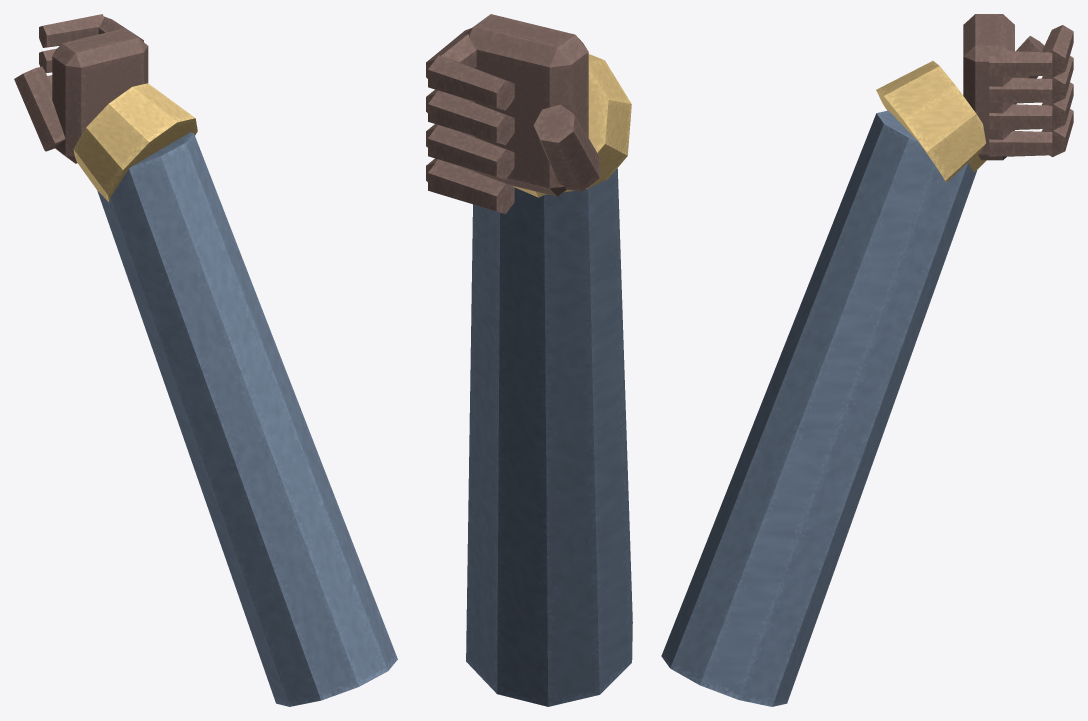
Rendered from fp_staff_arm.glb.
The picture shows the model from 3 angles, left to right: view 1: azimuth 30°, elevation 25°; view 2: azimuth 150°, elevation 25°; view 3: azimuth 270°, elevation 25°; orthographic projection. The views are drawn at different scales.
Visible parts, largest first — view 1: RightSleeve, RightPalm, RightCuff, RightThumb, RightFingerTip.003; view 2: RightSleeve, RightPalm, RightCuff, RightThumb, RightFingerTip.003, RightFingerTip.002, RightFingerTip, RightFingerTip.001, RightFinger.003; view 3: RightSleeve, RightCuff, RightPalm, RightFinger.003, RightFinger, RightFinger.002, RightFinger.001, RightFingerTip.003.
Boxes of the visible parts, x1=… form: RightSleeve: x1=97, y1=132, x2=397, y2=706; RightPalm: x1=52, y1=28, x2=148, y2=163; RightCuff: x1=73, y1=83, x2=197, y2=202; RightThumb: x1=14, y1=66, x2=65, y2=151; RightFingerTip.003: x1=39, y1=14, x2=103, y2=47; RightSleeve: x1=466, y1=168, x2=632, y2=706; RightPalm: x1=463, y1=14, x2=588, y2=196; RightCuff: x1=512, y1=54, x2=631, y2=197; RightThumb: x1=533, y1=104, x2=600, y2=191; RightFingerTip.003: x1=428, y1=55, x2=514, y2=110; RightFingerTip.002: x1=428, y1=90, x2=514, y2=145; RightFingerTip: x1=428, y1=159, x2=514, y2=213; RightFingerTip.001: x1=428, y1=125, x2=514, y2=179; RightFinger.003: x1=426, y1=28, x2=476, y2=78; RightSleeve: x1=661, y1=110, x2=977, y2=706; RightCuff: x1=876, y1=61, x2=986, y2=182; RightPalm: x1=963, y1=14, x2=1014, y2=160; RightFinger.003: x1=989, y1=51, x2=1052, y2=76; RightFinger: x1=989, y1=131, x2=1052, y2=156; RightFinger.002: x1=989, y1=78, x2=1052, y2=103; RightFinger.001: x1=989, y1=104, x2=1052, y2=129; RightFingerTip.003: x1=1042, y1=25, x2=1073, y2=77.
Bounding box in the file's own units: 0.3404 × 0.8635 × 0.5214.
3 materials, 3 textured.
